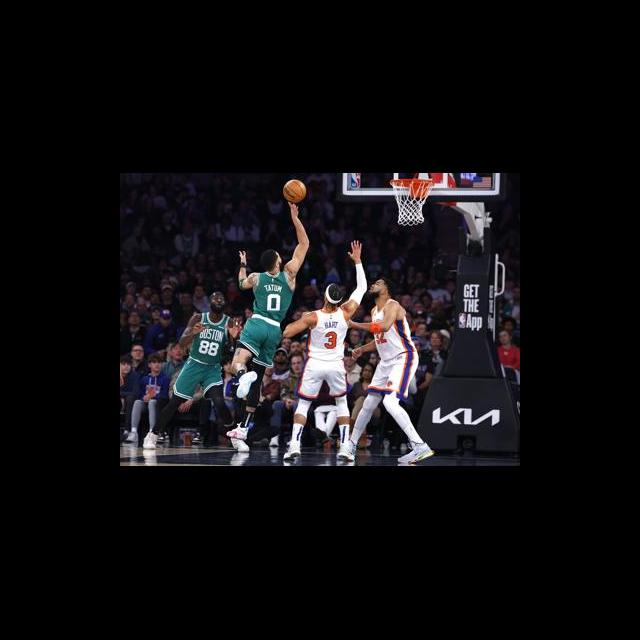basketball: (282, 180, 306, 201)
hoop: (391, 178, 430, 225)
